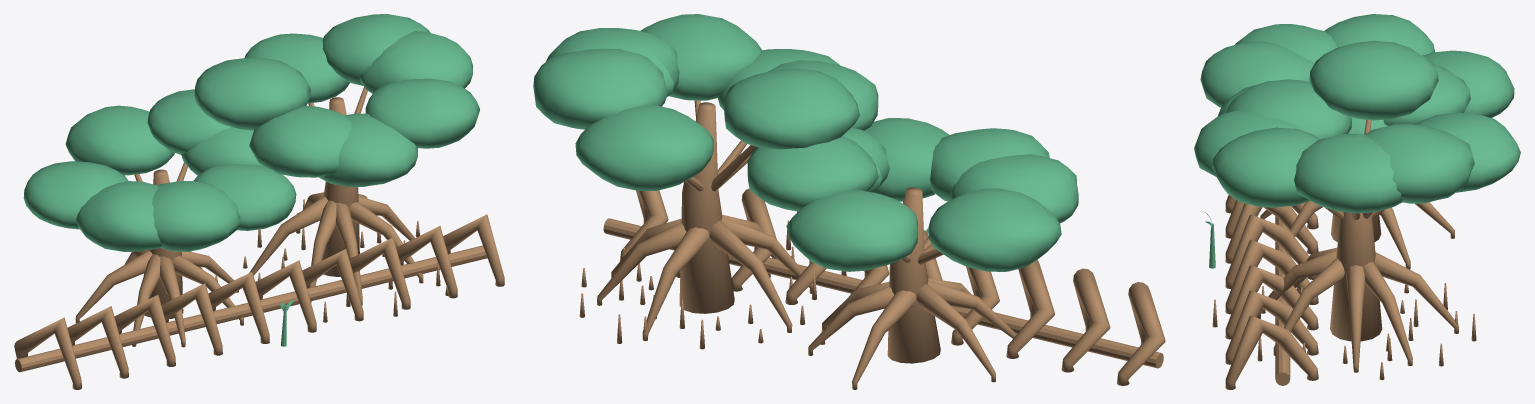
Rendered from mangrove_fringe_tropical_island_and_palm_trees_6863.glb.
The picture shows the model from 3 angles, left to right: view 1: azimuth 30°, elevation 25°; view 2: azimuth 150°, elevation 25°; view 3: azimuth 270°, elevation 25°; orthographic projection. The views are drawn at different scales.
Parts seen in each view (by area): view 1: 003-black-mangrove/15, 003-black-mangrove/12, 003-black-mangrove/6, 002-red-mangrove-small/9, 002-red-mangrove-small/21, 002-red-mangrove-small/6, 003-black-mangrove/21, 003-black-mangrove/3, 002-red-mangrove-small/15, 002-red-mangrove-small/12, 003-black-mangrove/18, 003-black-mangrove/9 (+26 smaller); view 2: 003-black-mangrove/9, 003-black-mangrove/15, 002-red-mangrove-small/15, 002-red-mangrove-small/9, 003-black-mangrove/18, 002-red-mangrove-small/18, 003-black-mangrove/12, 003-black-mangrove/0, 002-red-mangrove-small/6, 002-red-mangrove-small/0, 002-red-mangrove-small/12, 002-red-mangrove-small/21 (+22 smaller); view 3: 003-black-mangrove/15, 003-black-mangrove/3, 003-black-mangrove/12, 003-black-mangrove/18, 002-red-mangrove-small/21, 003-black-mangrove/6, 003-black-mangrove/9, 003-black-mangrove/0, 002-red-mangrove-small/9, 002-red-mangrove-small/15, 003-black-mangrove/21, 001-mangrove-root-module/4 (+19 smaller).
Boxes of the visible parts, left/top/right/bottom form: 003-black-mangrove/15: left=194, top=58, right=310, bottom=130; 003-black-mangrove/12: left=365, top=78, right=479, bottom=148; 003-black-mangrove/6: left=249, top=105, right=352, bottom=177; 002-red-mangrove-small/9: left=65, top=105, right=174, bottom=175; 002-red-mangrove-small/21: left=152, top=181, right=240, bottom=251; 002-red-mangrove-small/6: left=76, top=181, right=162, bottom=251; 003-black-mangrove/21: left=319, top=113, right=417, bottom=187; 003-black-mangrove/3: left=359, top=31, right=472, bottom=93; 002-red-mangrove-small/15: left=23, top=161, right=128, bottom=229; 002-red-mangrove-small/12: left=193, top=164, right=296, bottom=230; 003-black-mangrove/18: left=322, top=14, right=430, bottom=85; 003-black-mangrove/9: left=244, top=33, right=349, bottom=103; 003-black-mangrove/9: left=575, top=104, right=713, bottom=190; 003-black-mangrove/15: left=724, top=68, right=859, bottom=149; 002-red-mangrove-small/15: left=928, top=188, right=1061, bottom=271; 002-red-mangrove-small/9: left=786, top=190, right=918, bottom=271; 003-black-mangrove/18: left=533, top=48, right=667, bottom=129; 002-red-mangrove-small/18: left=747, top=136, right=878, bottom=211; 003-black-mangrove/12: left=640, top=14, right=761, bottom=100; 003-black-mangrove/0: left=679, top=102, right=734, bottom=313; 002-red-mangrove-small/6: left=950, top=154, right=1078, bottom=222; 002-red-mangrove-small/0: left=887, top=187, right=940, bottom=363; 002-red-mangrove-small/12: left=864, top=118, right=949, bottom=201; 002-red-mangrove-small/21: left=930, top=128, right=1049, bottom=201; 003-black-mangrove/15: left=1309, top=40, right=1438, bottom=120; 003-black-mangrove/3: left=1294, top=133, right=1402, bottom=213; 003-black-mangrove/12: left=1212, top=127, right=1319, bottom=207; 003-black-mangrove/18: left=1364, top=124, right=1474, bottom=203; 002-red-mangrove-small/21: left=1200, top=41, right=1314, bottom=107; 003-black-mangrove/6: left=1226, top=79, right=1351, bottom=139; 003-black-mangrove/9: left=1415, top=112, right=1520, bottom=192; 003-black-mangrove/0: left=1330, top=212, right=1382, bottom=341; 002-red-mangrove-small/9: left=1423, top=50, right=1514, bottom=117; 002-red-mangrove-small/15: left=1324, top=14, right=1434, bottom=55; 003-black-mangrove/21: left=1194, top=110, right=1304, bottom=176; 001-mangrove-root-module/4: left=1225, top=315, right=1318, bottom=389.
Size of the model in its own units: 8.27 by 3.52 by 4.38.
